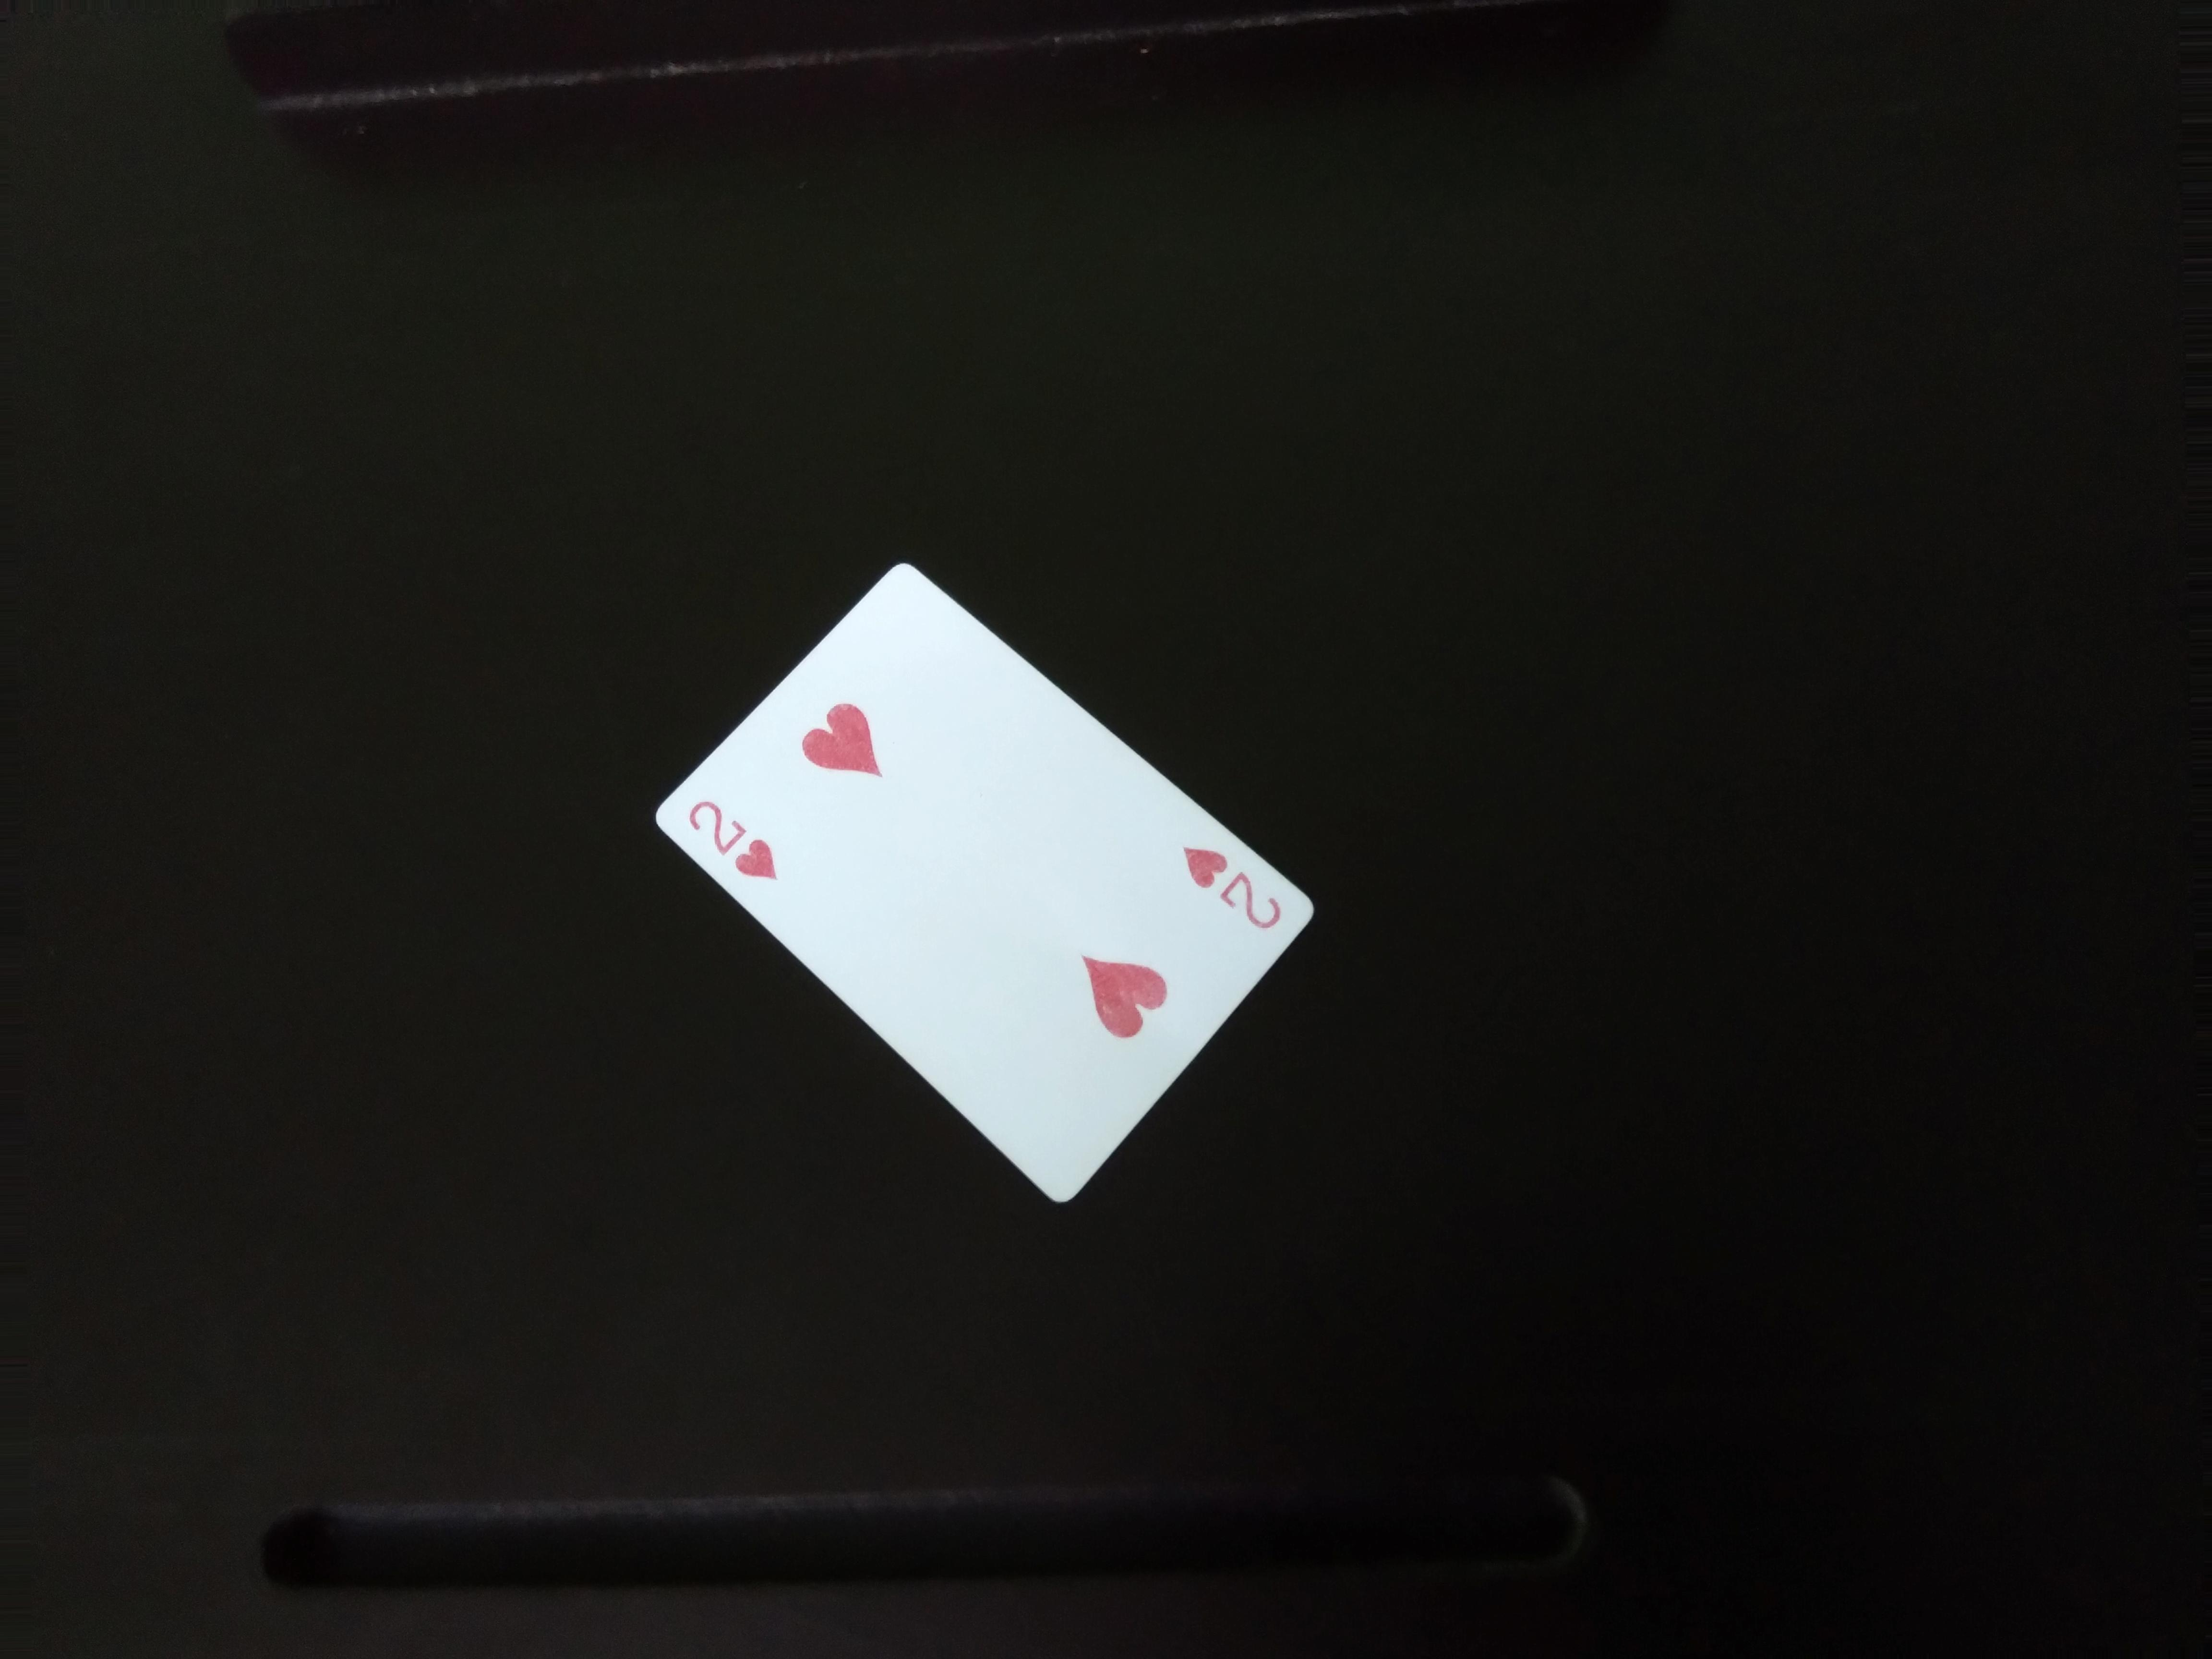2H: (1170, 817, 1296, 938)
